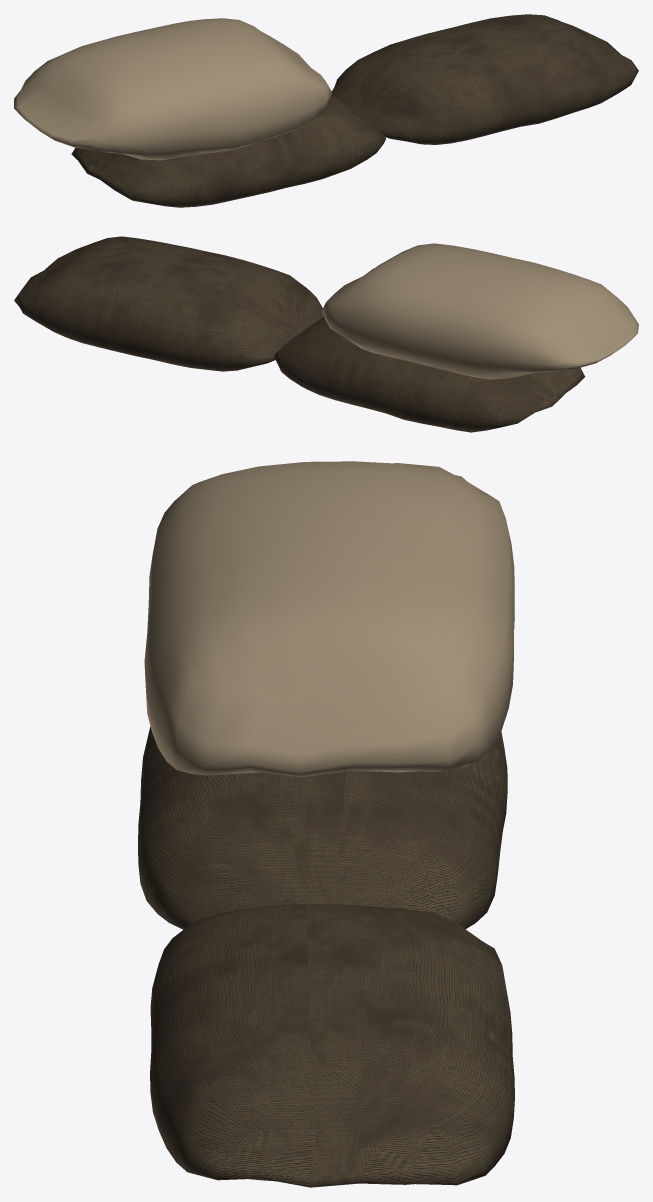
File: S7U_Sandbags_2L_B.fbx
The picture shows the model from 3 angles, top to bottom: view 1: azimuth 30°, elevation 25°; view 2: azimuth 150°, elevation 25°; view 3: azimuth 270°, elevation 25°; orthographic projection. The views are drawn at different scales.
Parts seen in each view (by area): view 1: S7U_Sandbags_2L_B; view 2: S7U_Sandbags_2L_B; view 3: S7U_Sandbags_2L_B.
Boxes of the visible parts, bbox=[...] form: S7U_Sandbags_2L_B: bbox=[14, 14, 638, 207]; S7U_Sandbags_2L_B: bbox=[14, 236, 638, 432]; S7U_Sandbags_2L_B: bbox=[138, 461, 514, 1187].
Size of the model in its own units: 1.53 by 0.3469 by 0.4294.
